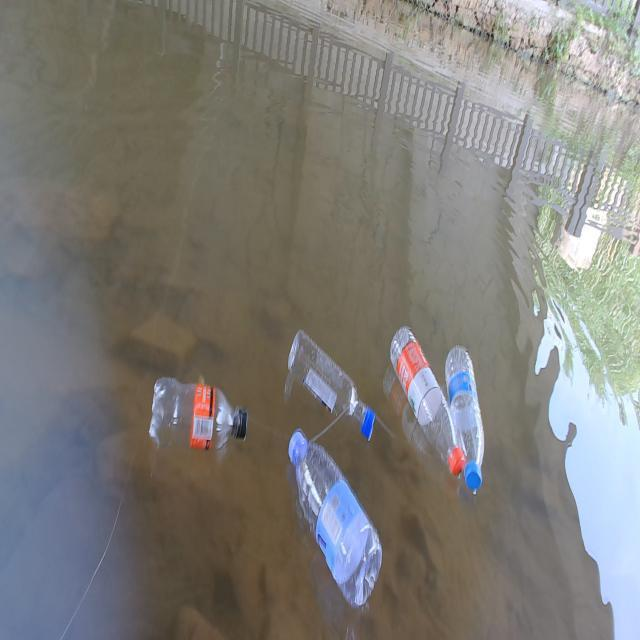bottle: (285, 425, 390, 612), (385, 322, 473, 481), (284, 325, 379, 441), (146, 374, 256, 456), (444, 338, 491, 506)
